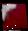dent: (0, 1, 28, 31)
